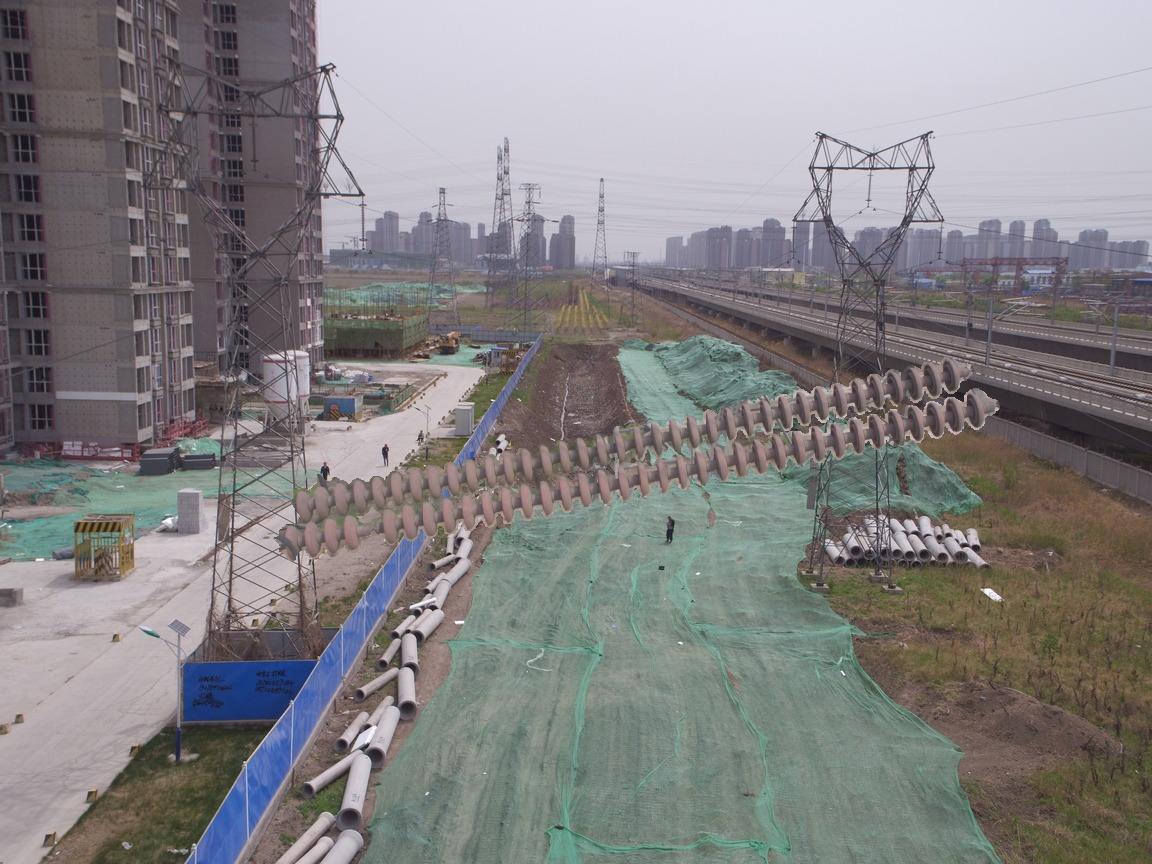defect: (339, 501, 400, 553)
